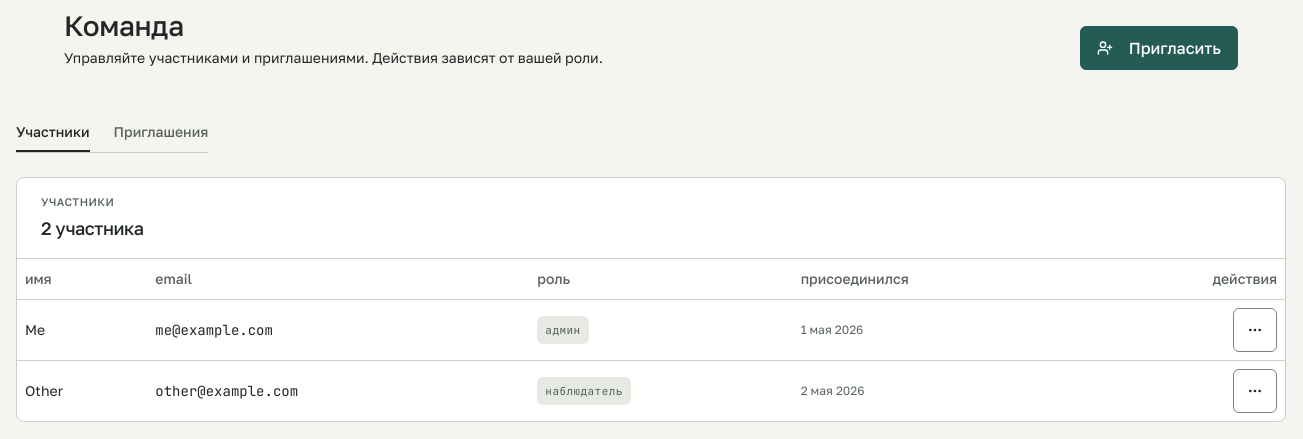
TeamPage › shows «Покинуть организацию» for the current user row (self-row)
This screenshot has width=1303, height=439.
Expected: the button "Пригласить" is shown, [1080,26,1238,70]
Click the button named "Действия для участника" at x=1255, y=330, box [1233,308,1277,352]
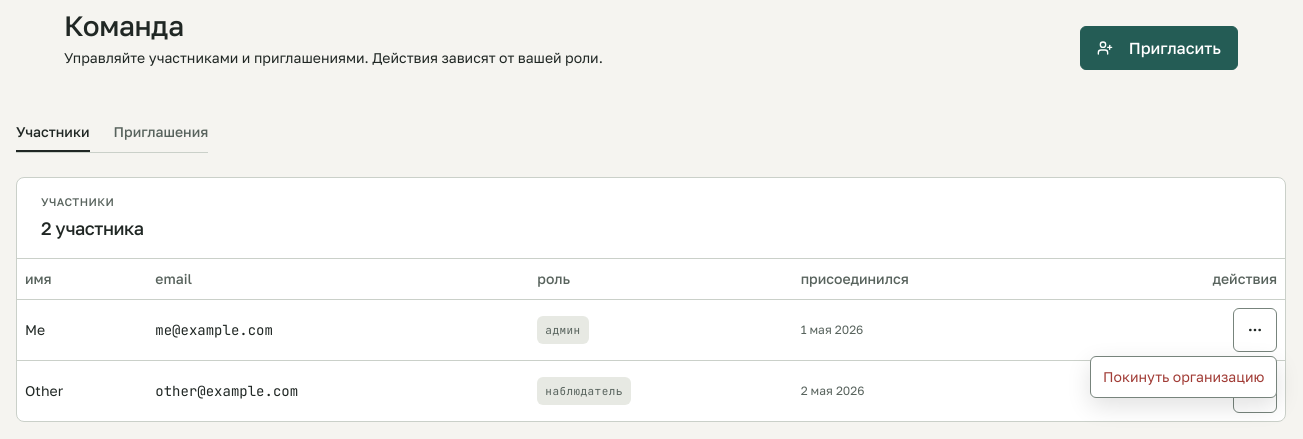
Expected: the menu item "Покинуть организацию" is shown, [1103,368,1264,385]
